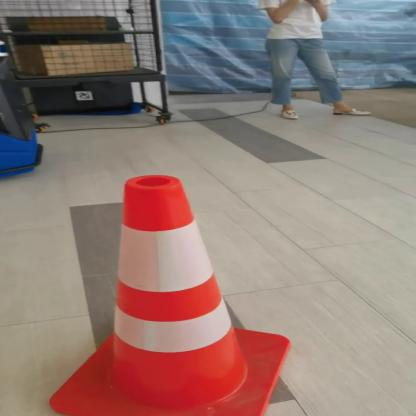cone: (42, 171, 292, 416)
